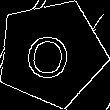O_N: (27, 26, 76, 81)
